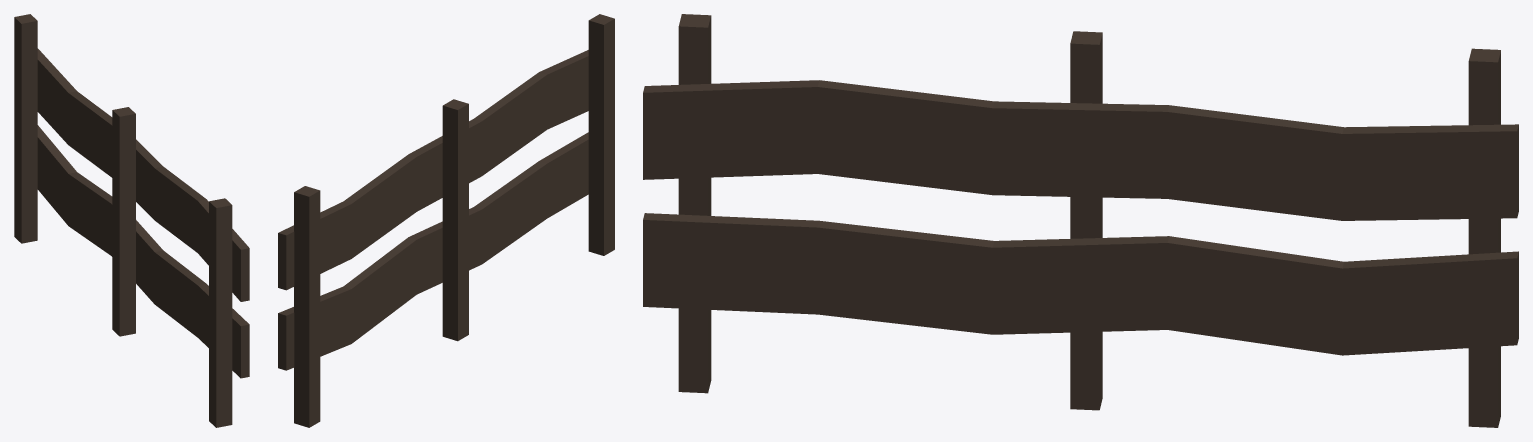
File: fence.fbx
The picture shows the model from 3 angles, left to right: view 1: azimuth 30°, elevation 25°; view 2: azimuth 150°, elevation 25°; view 3: azimuth 270°, elevation 25°; orthographic projection. The views are drawn at different scales.
Visible parts, largest first — view 1: Cube.059; view 2: Cube.059; view 3: Cube.059.
Part boxes in pixels (<box>): Cube.059: <box>14,14,249,427</box>; Cube.059: <box>278,14,614,427</box>; Cube.059: <box>643,14,1518,427</box>.
Bounding box in the file's own units: 197 × 598 × 1298.
